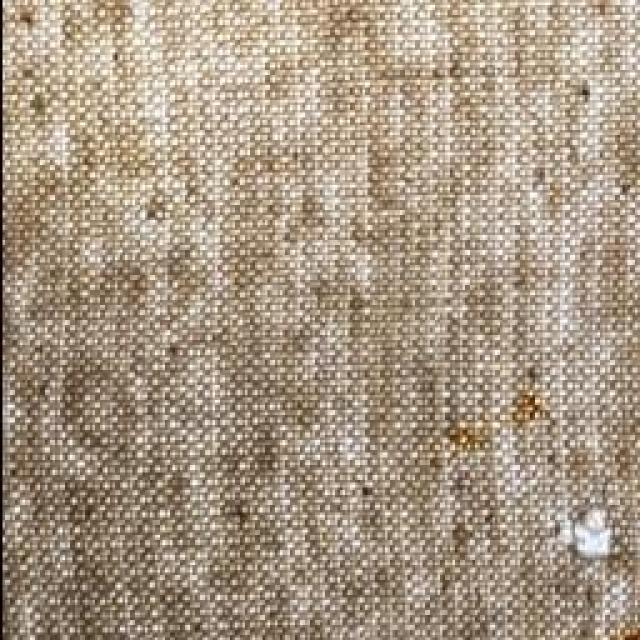other: (532, 478, 633, 584)
